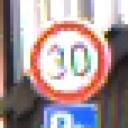speed_limit_30: (28, 18, 114, 106)
